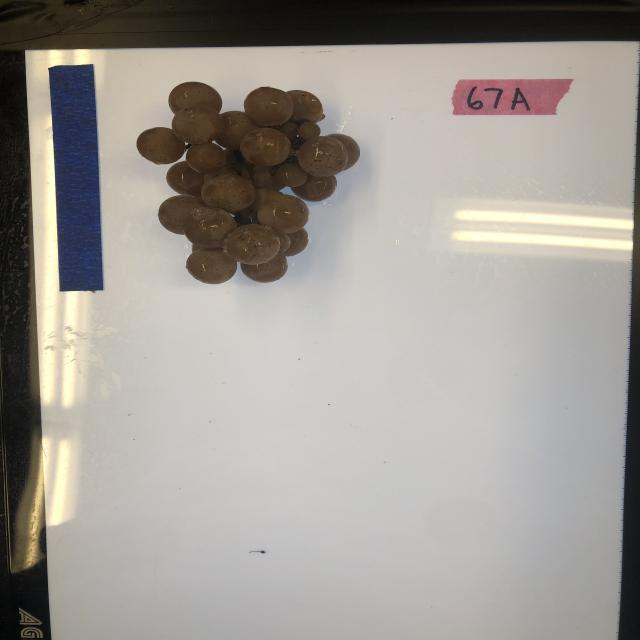grape_cluster: (137, 80, 362, 284)
index: (451, 78, 577, 116)
measure_label: (48, 64, 105, 292)
